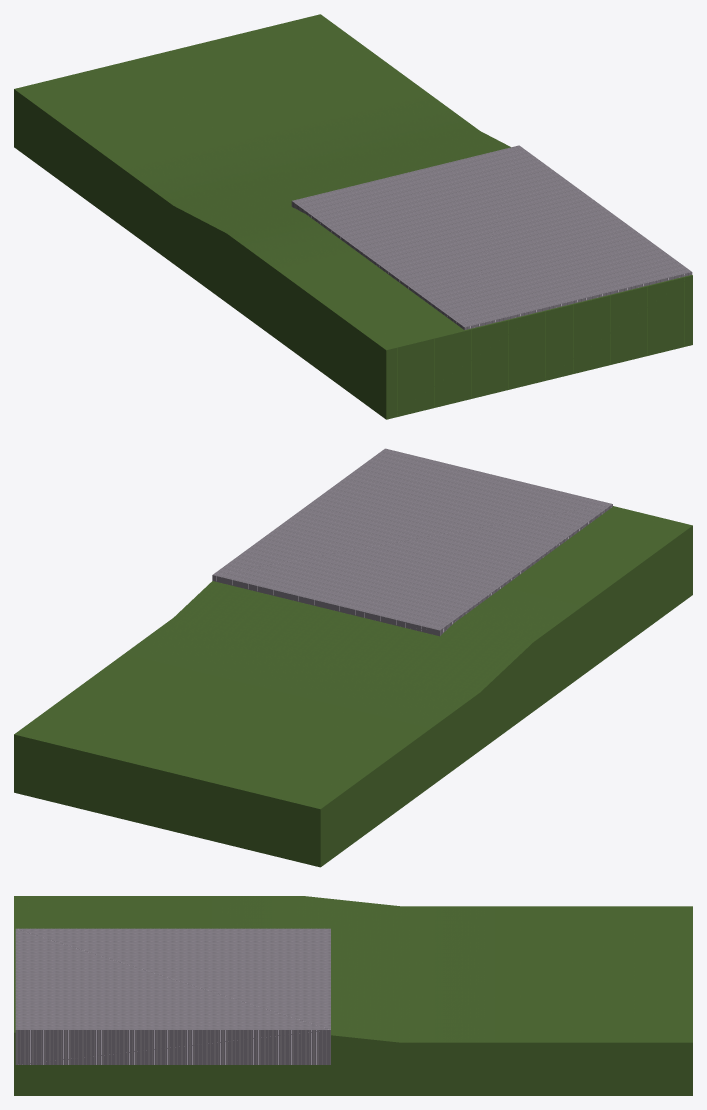
The model's file is ForestPlane.fbx.
3 views of the same model, one above another, from view 1: azimuth 30°, elevation 25°; view 2: azimuth 150°, elevation 25°; view 3: azimuth 270°, elevation 25° (orthographic). The views are drawn at different scales.
Parts seen in each view (by area): view 1: ForestPlane, ForestVilliagePlane; view 2: ForestPlane, ForestVilliagePlane; view 3: ForestPlane, ForestVilliagePlane.
Boxes of the visible parts, x1,y1,x2,y2 form: ForestPlane: [14, 14, 692, 419]; ForestVilliagePlane: [291, 145, 692, 330]; ForestPlane: [14, 506, 692, 867]; ForestVilliagePlane: [212, 448, 612, 636]; ForestPlane: [14, 896, 692, 1095]; ForestVilliagePlane: [15, 928, 330, 1064].
Bounding box in the file's own units: 37586 × 8466 × 79014.
2 materials, 2 textured.
